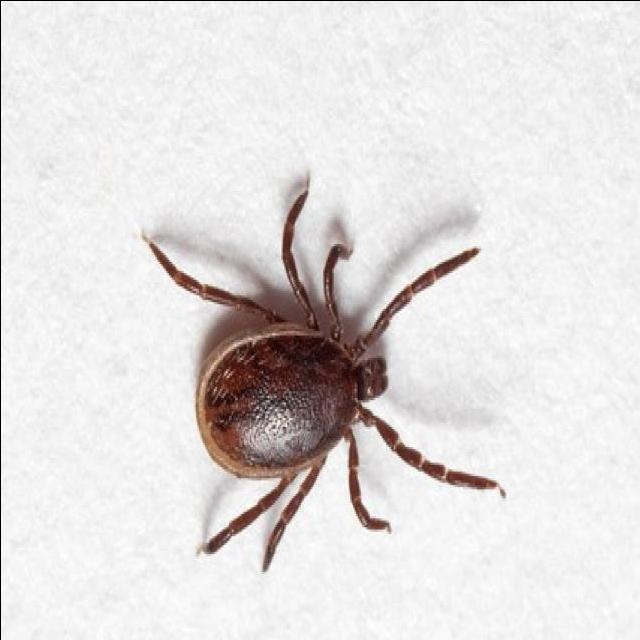Ixodes Ricinus-M: (139, 185, 504, 569)
